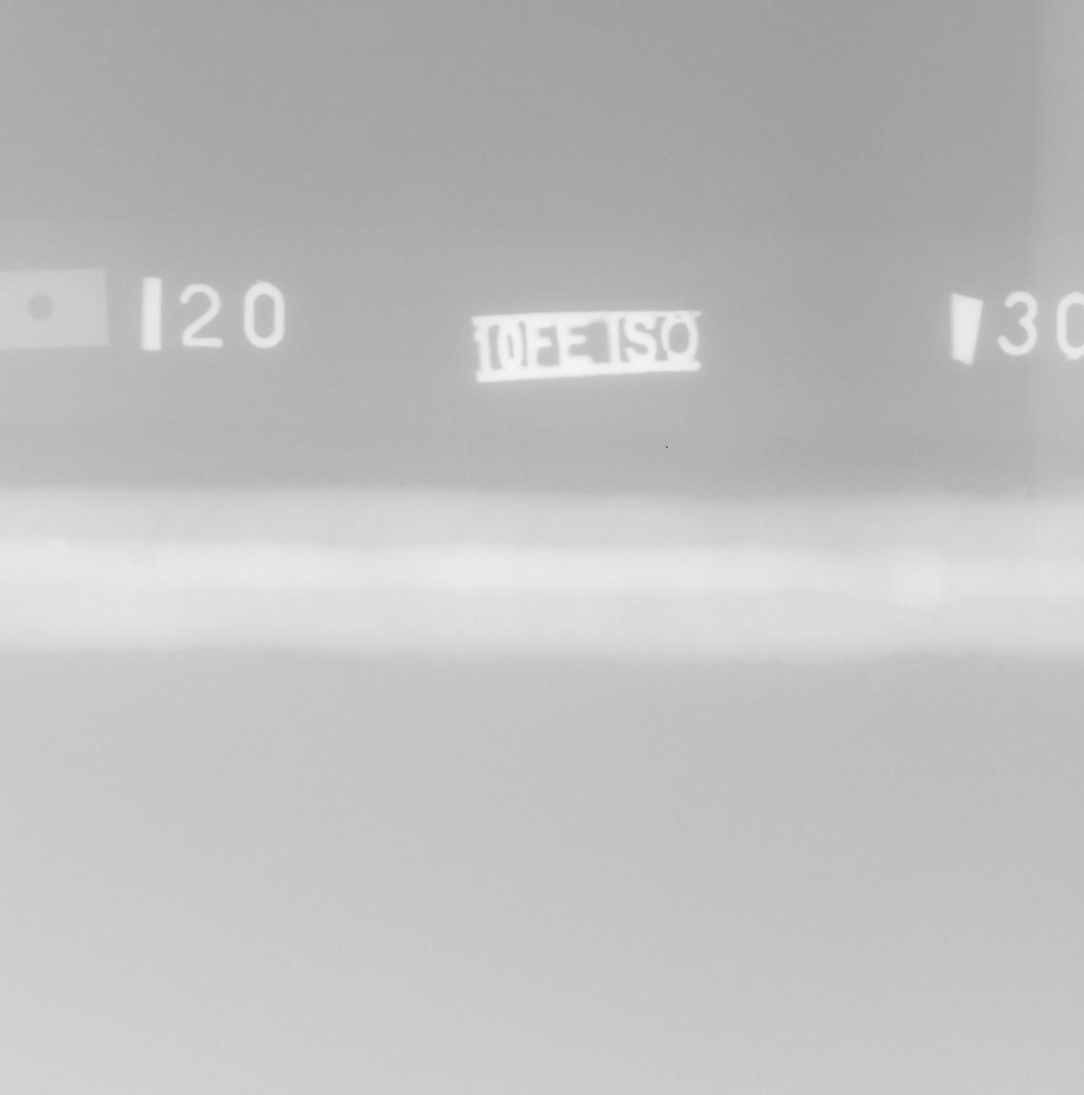Pore/Porosity: (130, 560, 140, 564)
